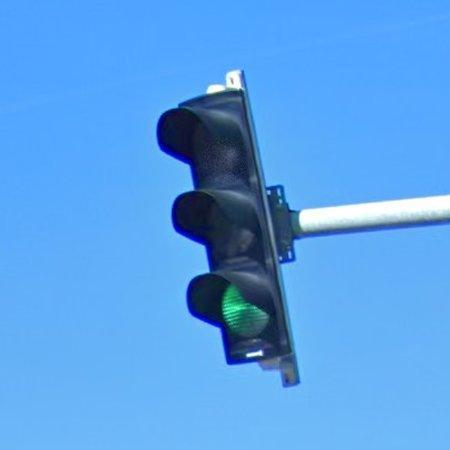traffic lights: (155, 89, 294, 367)
